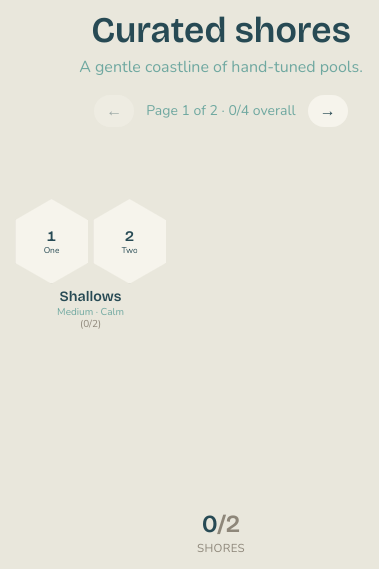
CuratedScreen pager › moves forward and back, and back lands on page one unchanged
Click the button named "next page" at (328, 111), box x1=308 y1=95 x2=348 y2=127
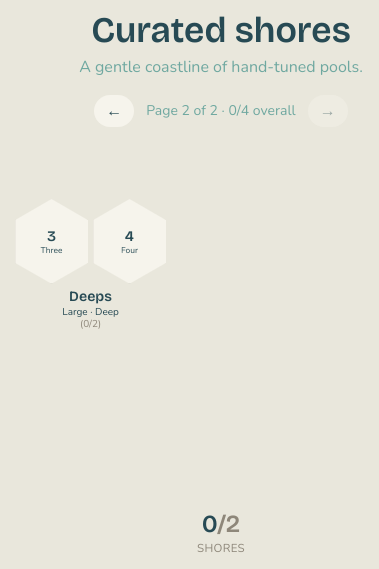
Expected: the text "Page 2 of 2 · 0/4 overall" is shown, x1=146 y1=101 x2=296 y2=121
Expected: the text "Shallows" is gone
Click the button named "previous page" at (114, 111), box x1=94 y1=95 x2=134 y2=127
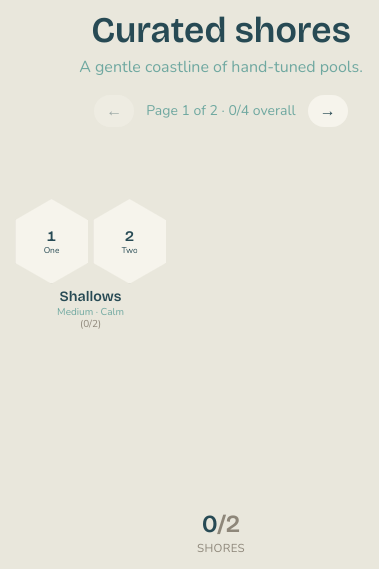
Expected: the text "Page 1 of 2 · 0/4 overall" is shown, x1=146 y1=101 x2=296 y2=121
